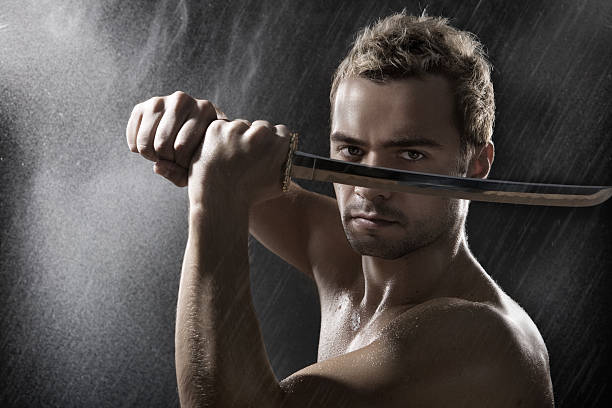knife: (277, 109, 612, 212)
